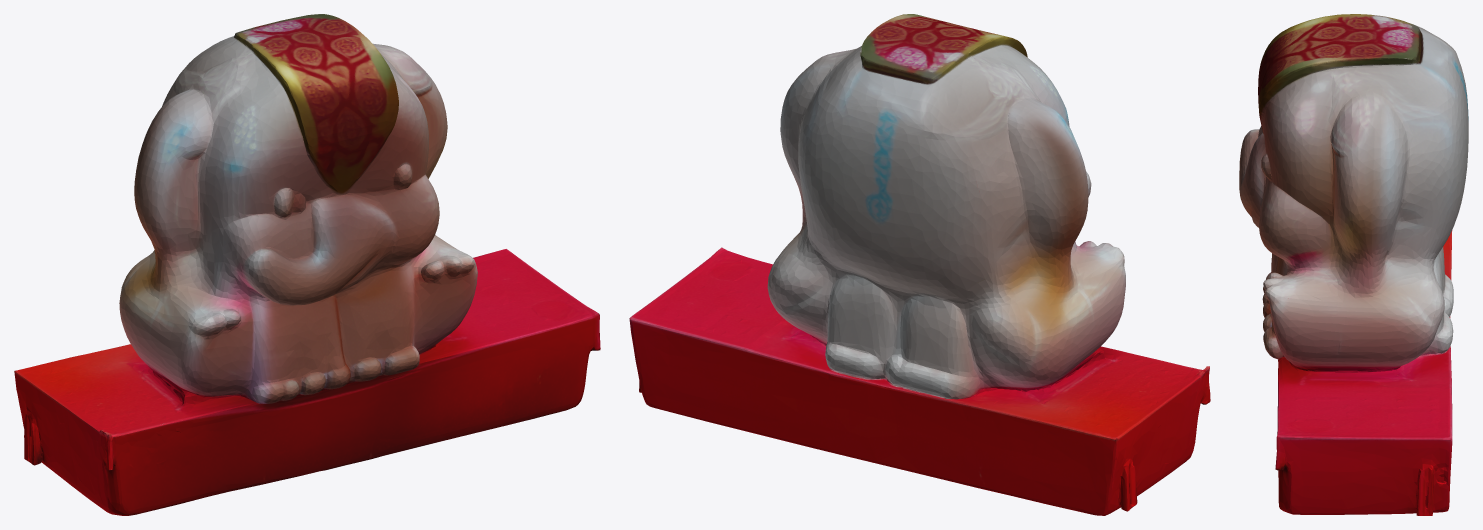
The model's file is elephantAI.glb.
3 views of the same model, side by side, from view 1: azimuth 30°, elevation 25°; view 2: azimuth 150°, elevation 25°; view 3: azimuth 270°, elevation 25° (orthographic). The views are drawn at different scales.
Parts seen in each view (by area): view 1: world; view 2: world; view 3: world.
Part boxes in pixels (left/top/right/bottom): world: left=14, top=14, right=600, bottom=515; world: left=629, top=14, right=1210, bottom=515; world: left=1239, top=14, right=1468, bottom=515.
Size of the model in its own units: 0.8009 by 0.6149 by 0.3442.
1 material, 1 textured.
